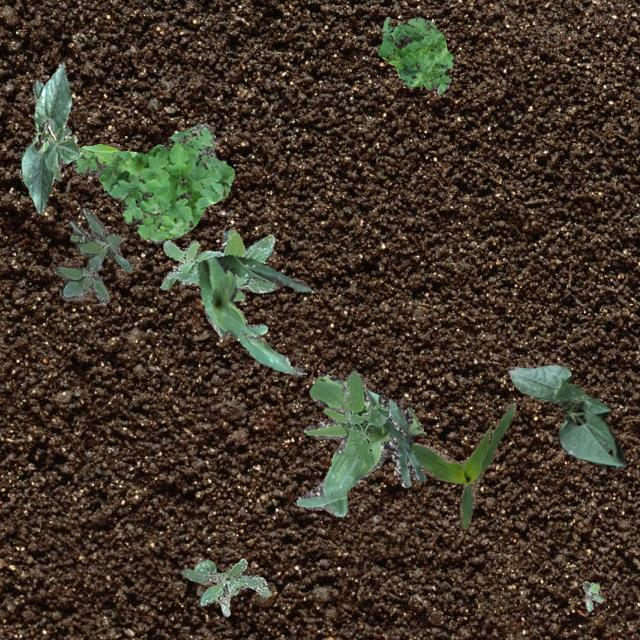crop: (296, 372, 424, 516), (196, 254, 310, 374), (410, 401, 514, 528), (506, 362, 626, 468), (20, 61, 80, 212), (31, 78, 70, 134), (194, 558, 238, 594)
weed: (72, 121, 234, 242), (158, 228, 274, 300), (52, 206, 132, 304), (322, 370, 387, 464), (377, 16, 452, 92), (180, 558, 270, 616), (581, 580, 601, 610)
